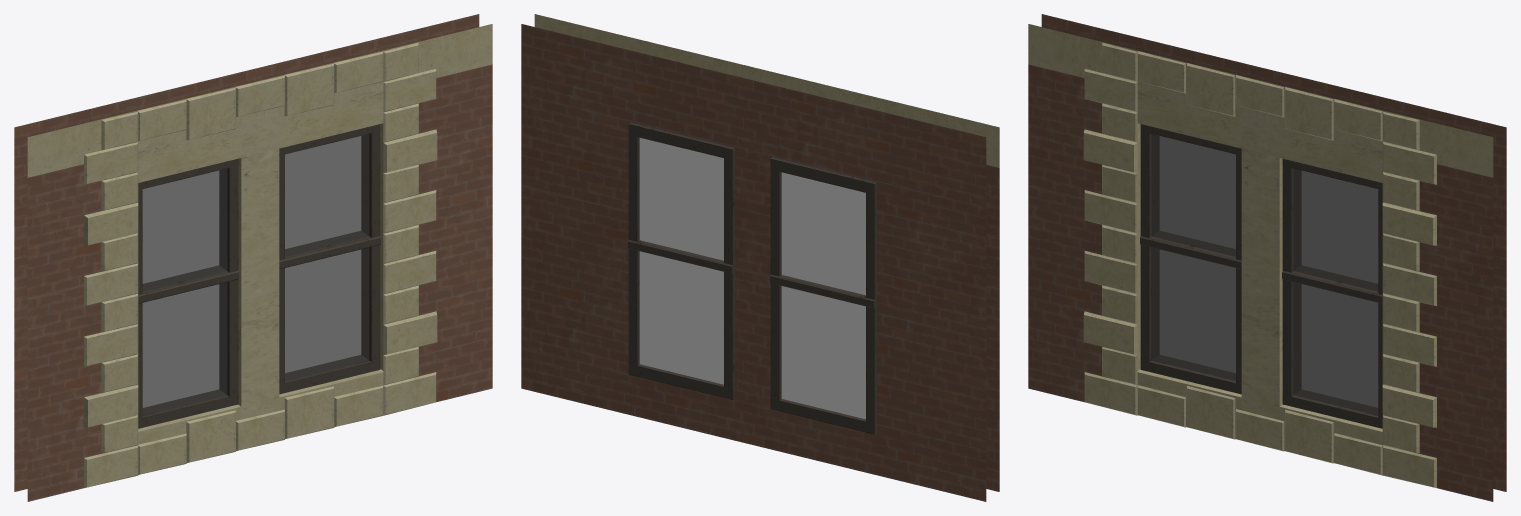
File: Brick_RedWhite_DoubleWindow.gltf
The picture shows the model from 3 angles, left to right: view 1: azimuth 30°, elevation 25°; view 2: azimuth 150°, elevation 25°; view 3: azimuth 330°, elevation 25°; orthographic projection.
Visible parts, largest first — view 1: Brick_RedWhite_DoubleWindow; view 2: Brick_RedWhite_DoubleWindow; view 3: Brick_RedWhite_DoubleWindow.
Boxes of the visible parts, box(x1,y1,x2,y2) form: Brick_RedWhite_DoubleWindow: box(14, 14, 492, 501); Brick_RedWhite_DoubleWindow: box(521, 14, 999, 501); Brick_RedWhite_DoubleWindow: box(1028, 14, 1506, 501).
Bounding box in the file's own units: 4 × 3 × 0.2773.
Materials: 6 (4 with a texture image).
